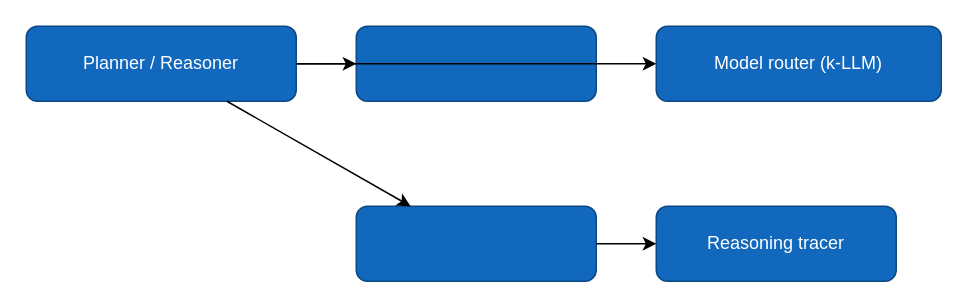
Image size: 968x308. Some labels were removed from this diagram. Here are the shapes that lost their labels. From the top down, the centre of each, then its label:
At point (475, 63): "Memory".
At point (475, 243): "Tool executor".
